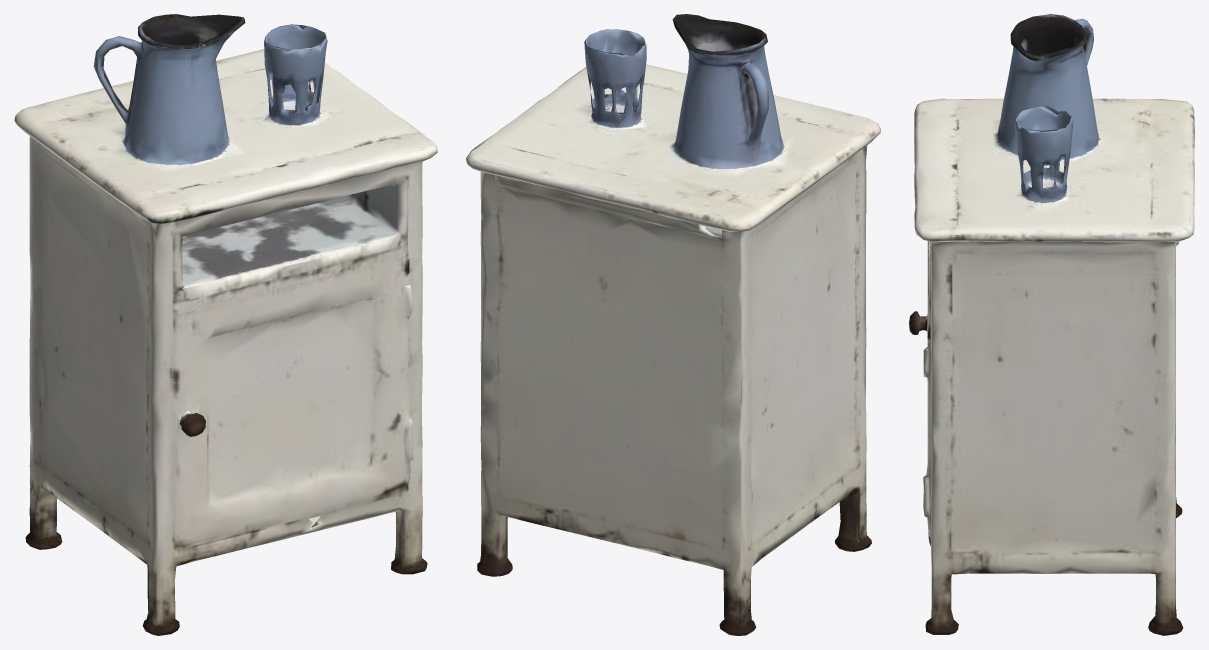
Rendered from velador_blanco.glb.
3 renders of one model, left to right at view 1: azimuth 30°, elevation 25°; view 2: azimuth 150°, elevation 25°; view 3: azimuth 270°, elevation 25°, orthographic. The views are drawn at different scales.
Parts seen in each view (by area): view 1: geometry_0; view 2: geometry_0; view 3: geometry_0.
Part boxes in pixels (<box>): geometry_0: <box>14,14,437,635</box>; geometry_0: <box>466,14,880,635</box>; geometry_0: <box>909,14,1194,635</box>.
Size of the model in its own units: 0.45 by 0.8 by 0.4.
Materials: 1 (1 with a texture image).
